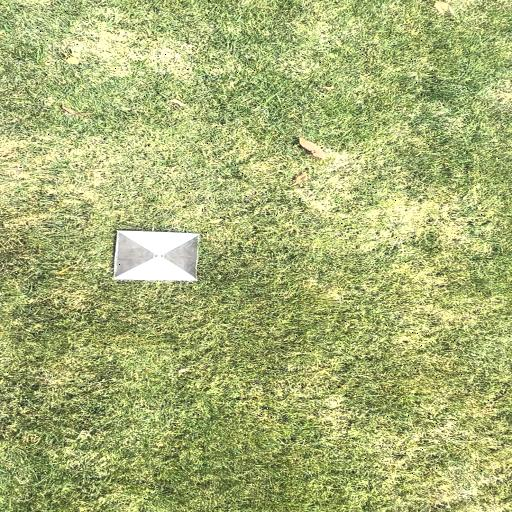target: (116, 231, 197, 281)
